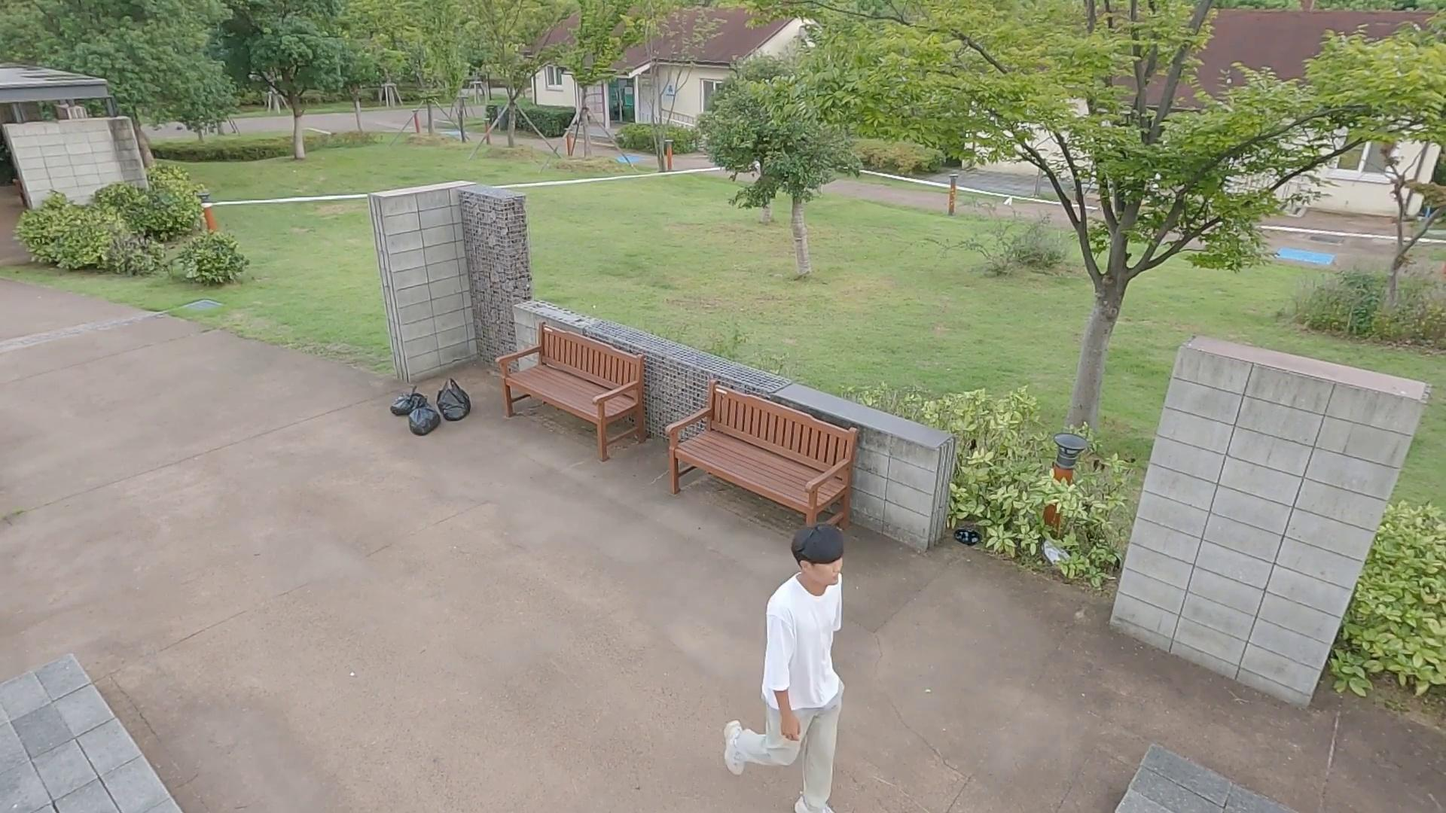person: (721, 522, 846, 813)
trash: (433, 376, 473, 423), (406, 396, 441, 437), (1042, 537, 1077, 572), (390, 384, 427, 416), (954, 525, 984, 548)
